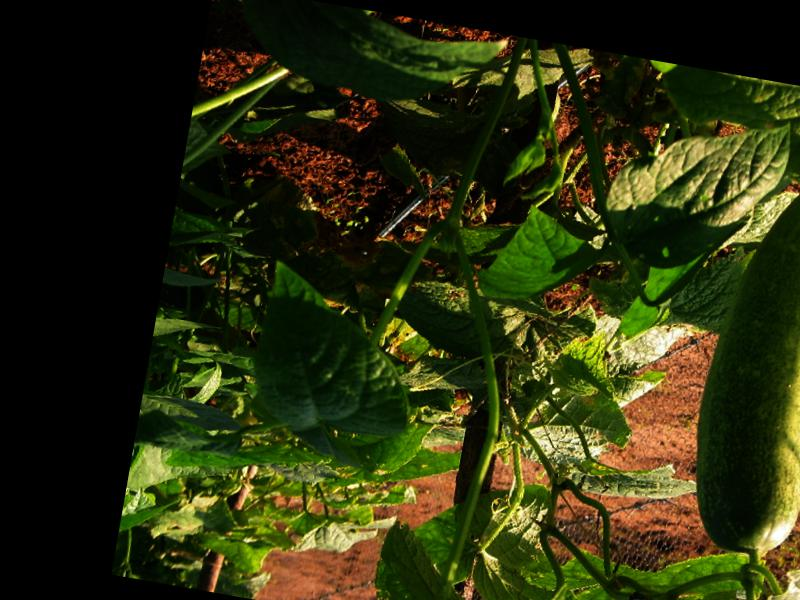Cucumber: (678, 158, 800, 563)
